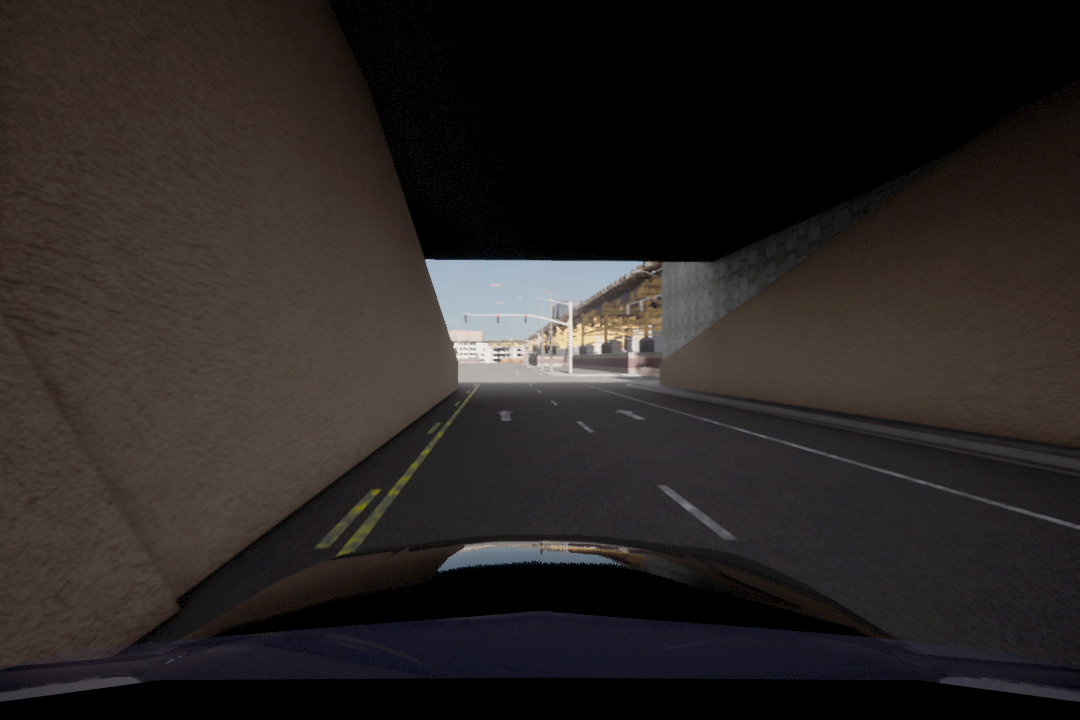RoadSign_forward: (614, 404, 647, 423), (492, 407, 518, 426)
